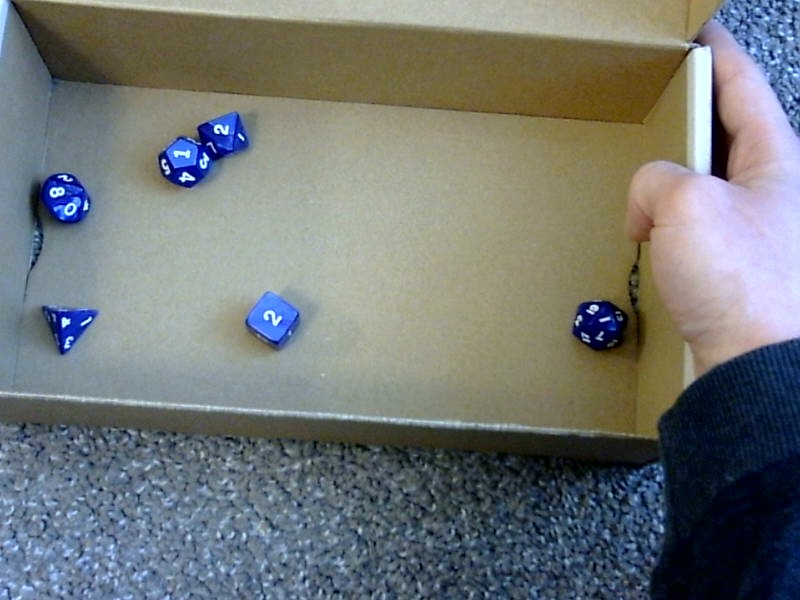d10 8: (34, 164, 94, 228)
d12 1: (151, 134, 209, 188)
d20 1: (567, 293, 628, 352)
d4 4: (37, 301, 100, 357)
d6 2: (239, 286, 303, 357)
d8 2: (197, 109, 252, 156)
